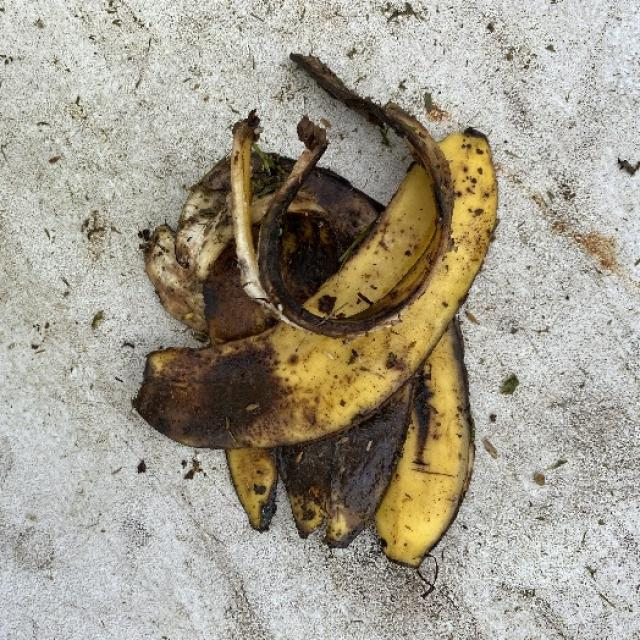organik: (119, 42, 545, 566)
